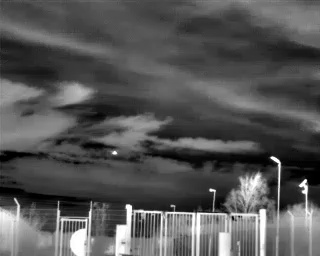HELICOPTER: (109, 147, 121, 158)
